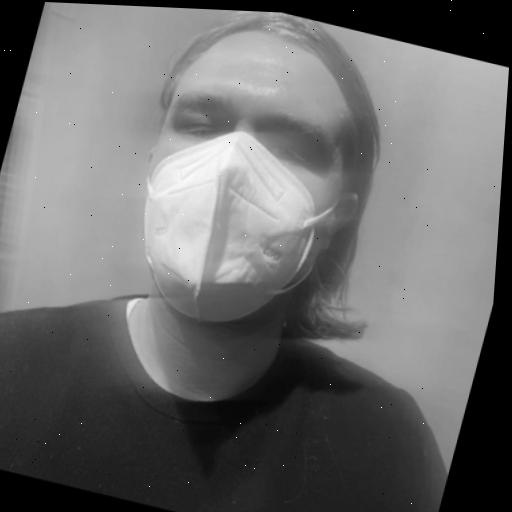mask: (92, 5, 438, 364)
